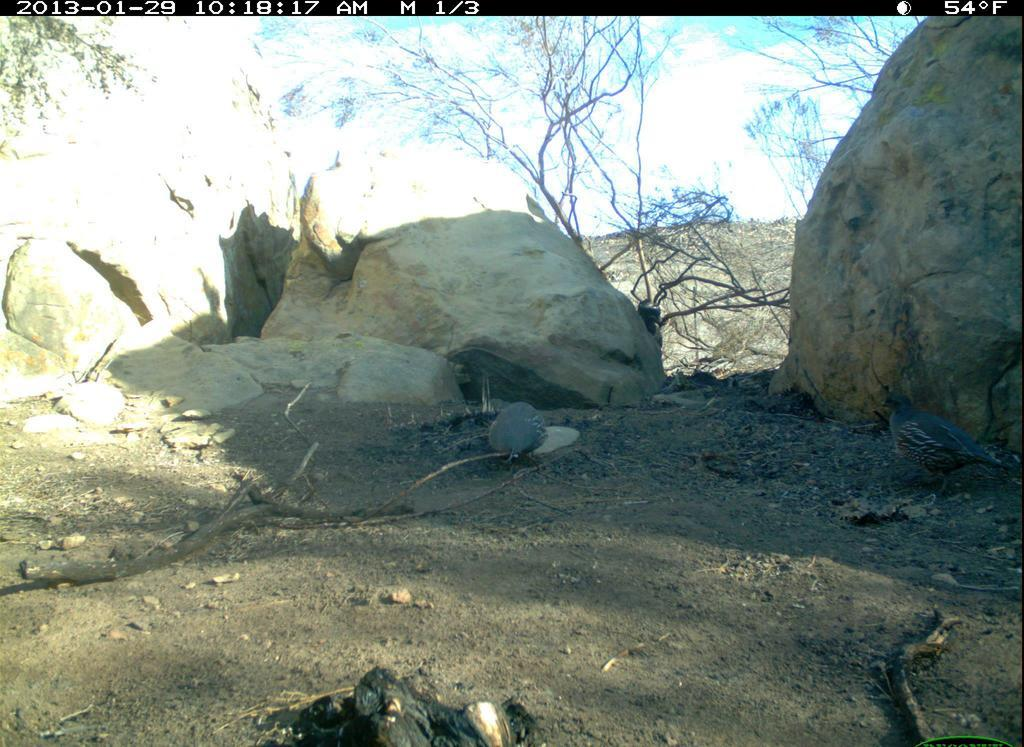bird: (484, 401, 547, 470)
